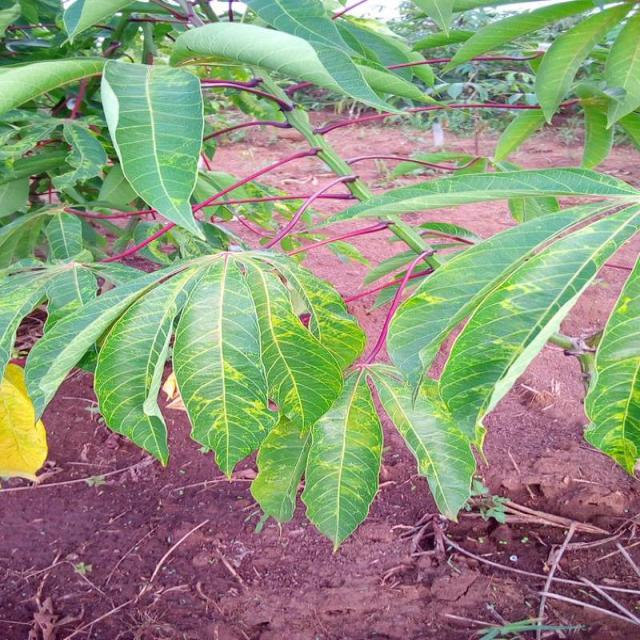cassava leaf: (1, 1, 638, 555), (99, 59, 206, 241), (300, 367, 383, 554), (582, 252, 639, 478)
